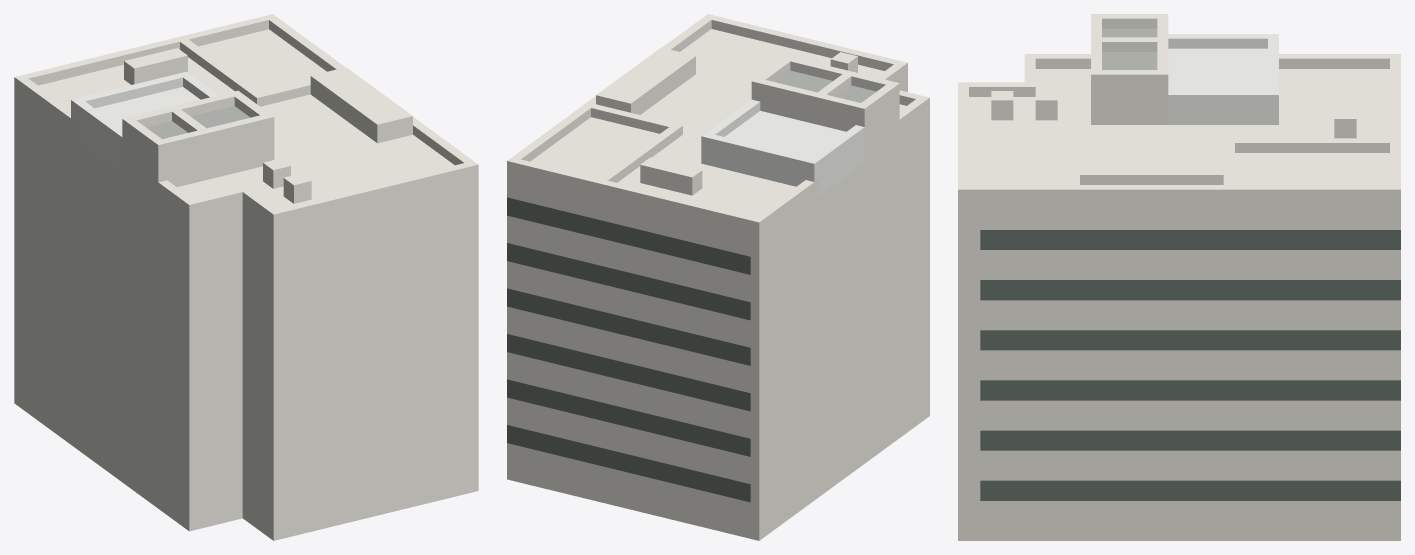
The model's file is nishida_3.fbx.
The picture shows the model from 3 angles, left to right: view 1: azimuth 30°, elevation 25°; view 2: azimuth 150°, elevation 25°; view 3: azimuth 270°, elevation 25°; orthographic projection. The views are drawn at different scales.
Parts seen in each view (by area): view 1: palette; view 2: palette; view 3: palette.
Boxes of the visible parts, left/top/right/bottom form: palette: left=14, top=14, right=478, bottom=540; palette: left=507, top=14, right=929, bottom=540; palette: left=958, top=14, right=1400, bottom=540.
Bounding box in the file's own units: 29 × 39 × 40.
Materials: 1 (1 with a texture image).
